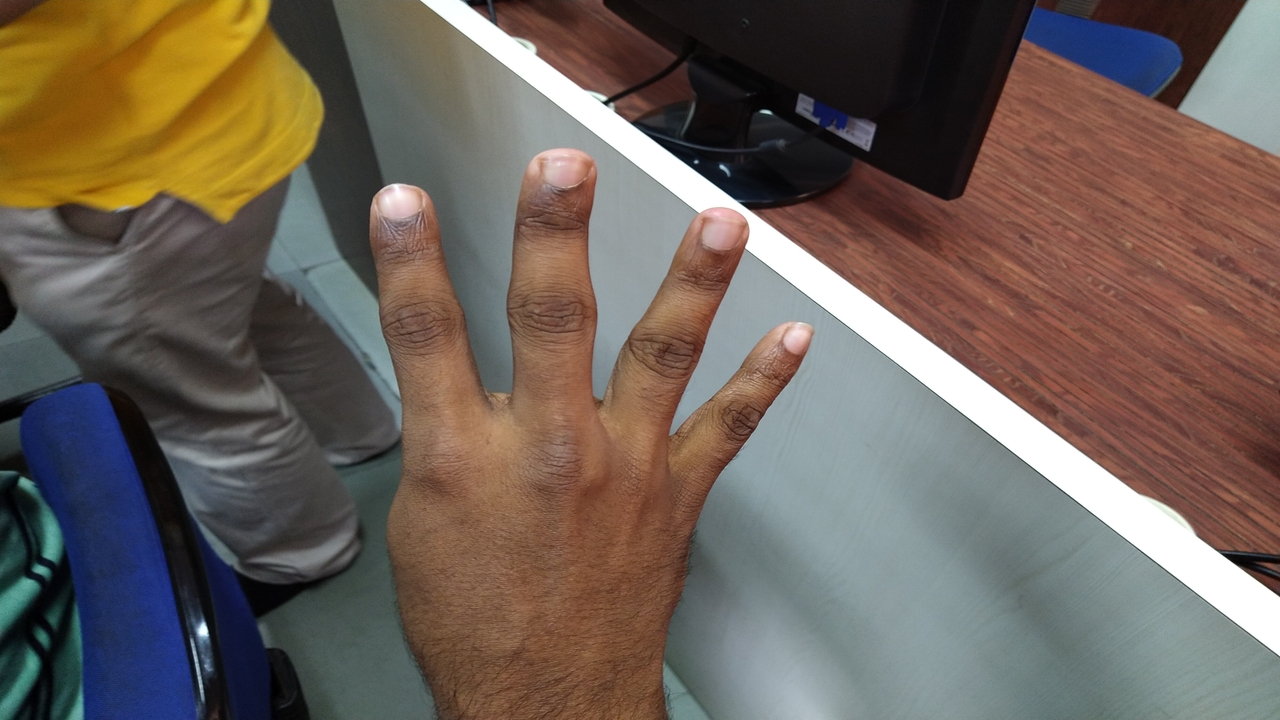fingertip: (502, 140, 598, 220), (360, 176, 442, 246), (680, 198, 756, 270), (754, 314, 822, 372)
